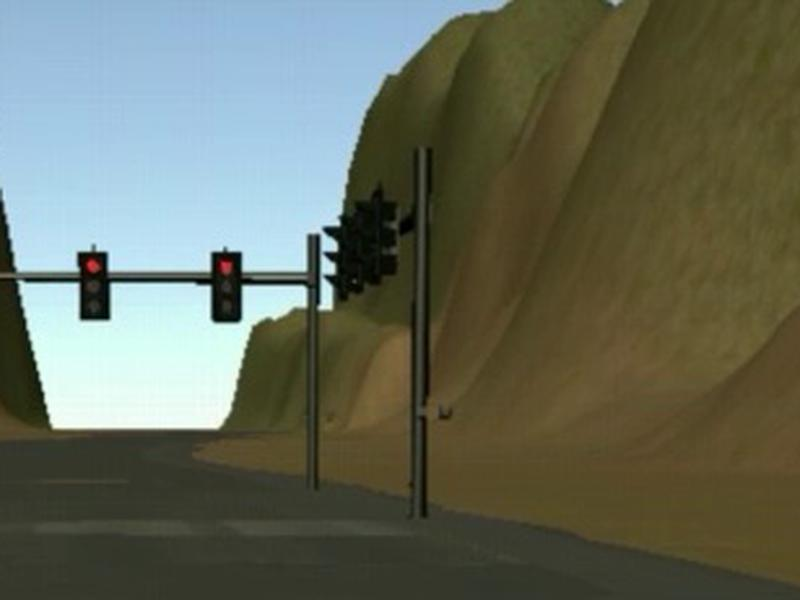Red: (211, 251, 241, 322), (77, 251, 108, 319)
